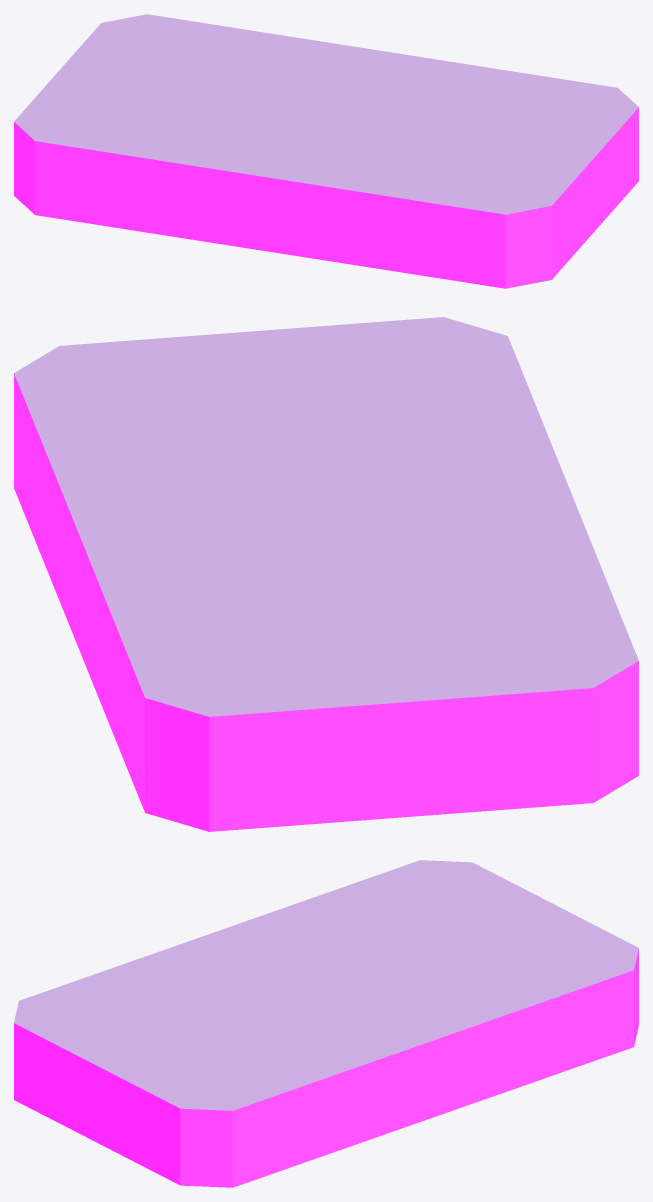
File: Plataforma.fbx
The picture shows the model from 3 angles, top to bottom: view 1: azimuth 30°, elevation 25°; view 2: azimuth 150°, elevation 25°; view 3: azimuth 270°, elevation 25°; orthographic projection. The views are drawn at different scales.
Visible parts, largest first — view 1: Plataformas; view 2: Plataformas; view 3: Plataformas.
Part boxes in pixels (bbox=[...]): Plataformas: bbox=[14, 14, 638, 288]; Plataformas: bbox=[14, 317, 638, 831]; Plataformas: bbox=[14, 860, 638, 1187].
Size of the model in its own units: 21.86 by 3.18 by 23.12.
